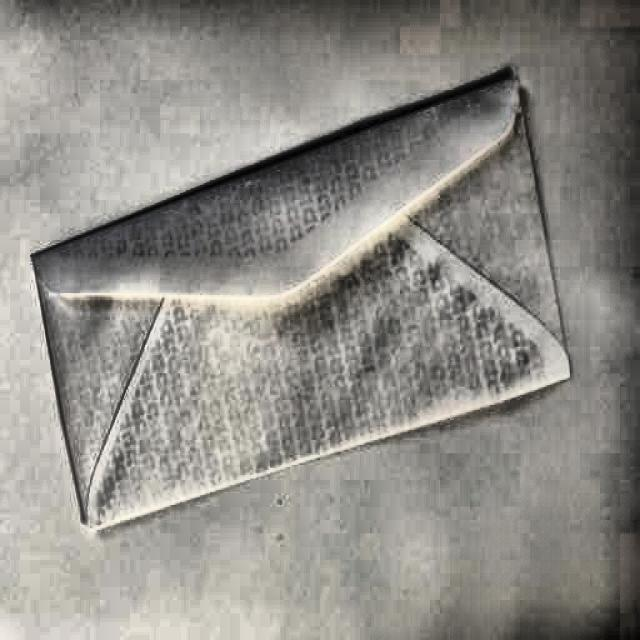paper: (28, 84, 569, 528)
